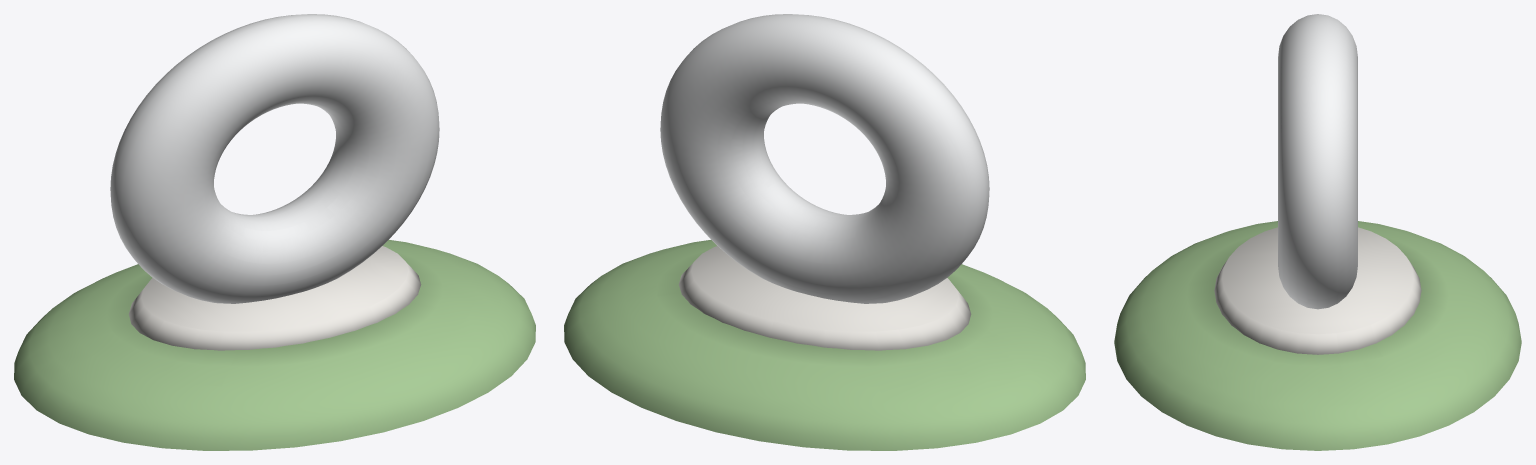
File: museum_of_the_future.glb
The picture shows the model from 3 angles, left to right: view 1: azimuth 30°, elevation 25°; view 2: azimuth 150°, elevation 25°; view 3: azimuth 270°, elevation 25°; orthographic projection. The views are drawn at different scales.
Parts seen in each view (by area): view 1: museum_of_the_future; view 2: museum_of_the_future; view 3: museum_of_the_future.
Boxes of the visible parts, x1,y1,x2,y2 form: museum_of_the_future: (14,14,535,450); museum_of_the_future: (564,14,1085,450); museum_of_the_future: (1114,14,1521,450).
Size of the model in its own units: 116 by 76.95 by 92.
